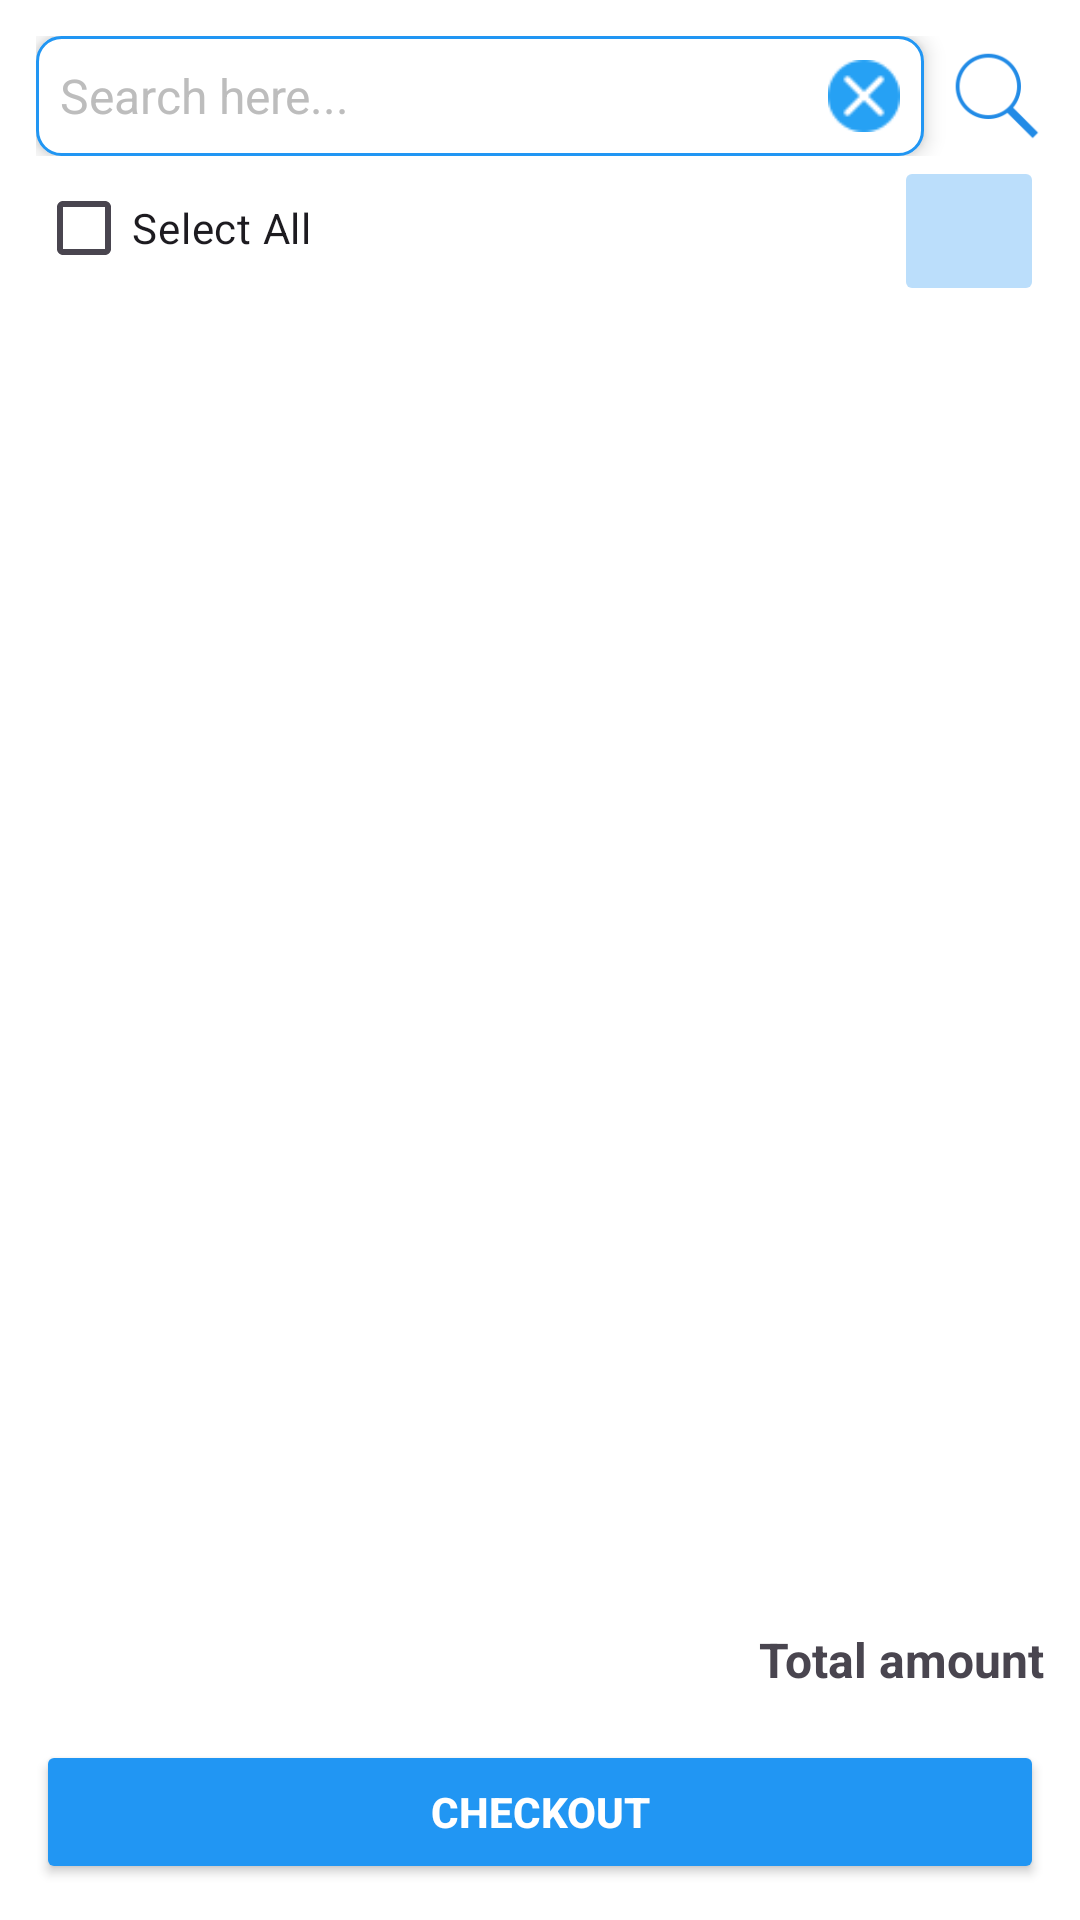

Icons on this 1080px x 1920px Android screen, each with the point to tap as point (x, y):
cancel: point (864, 96)
